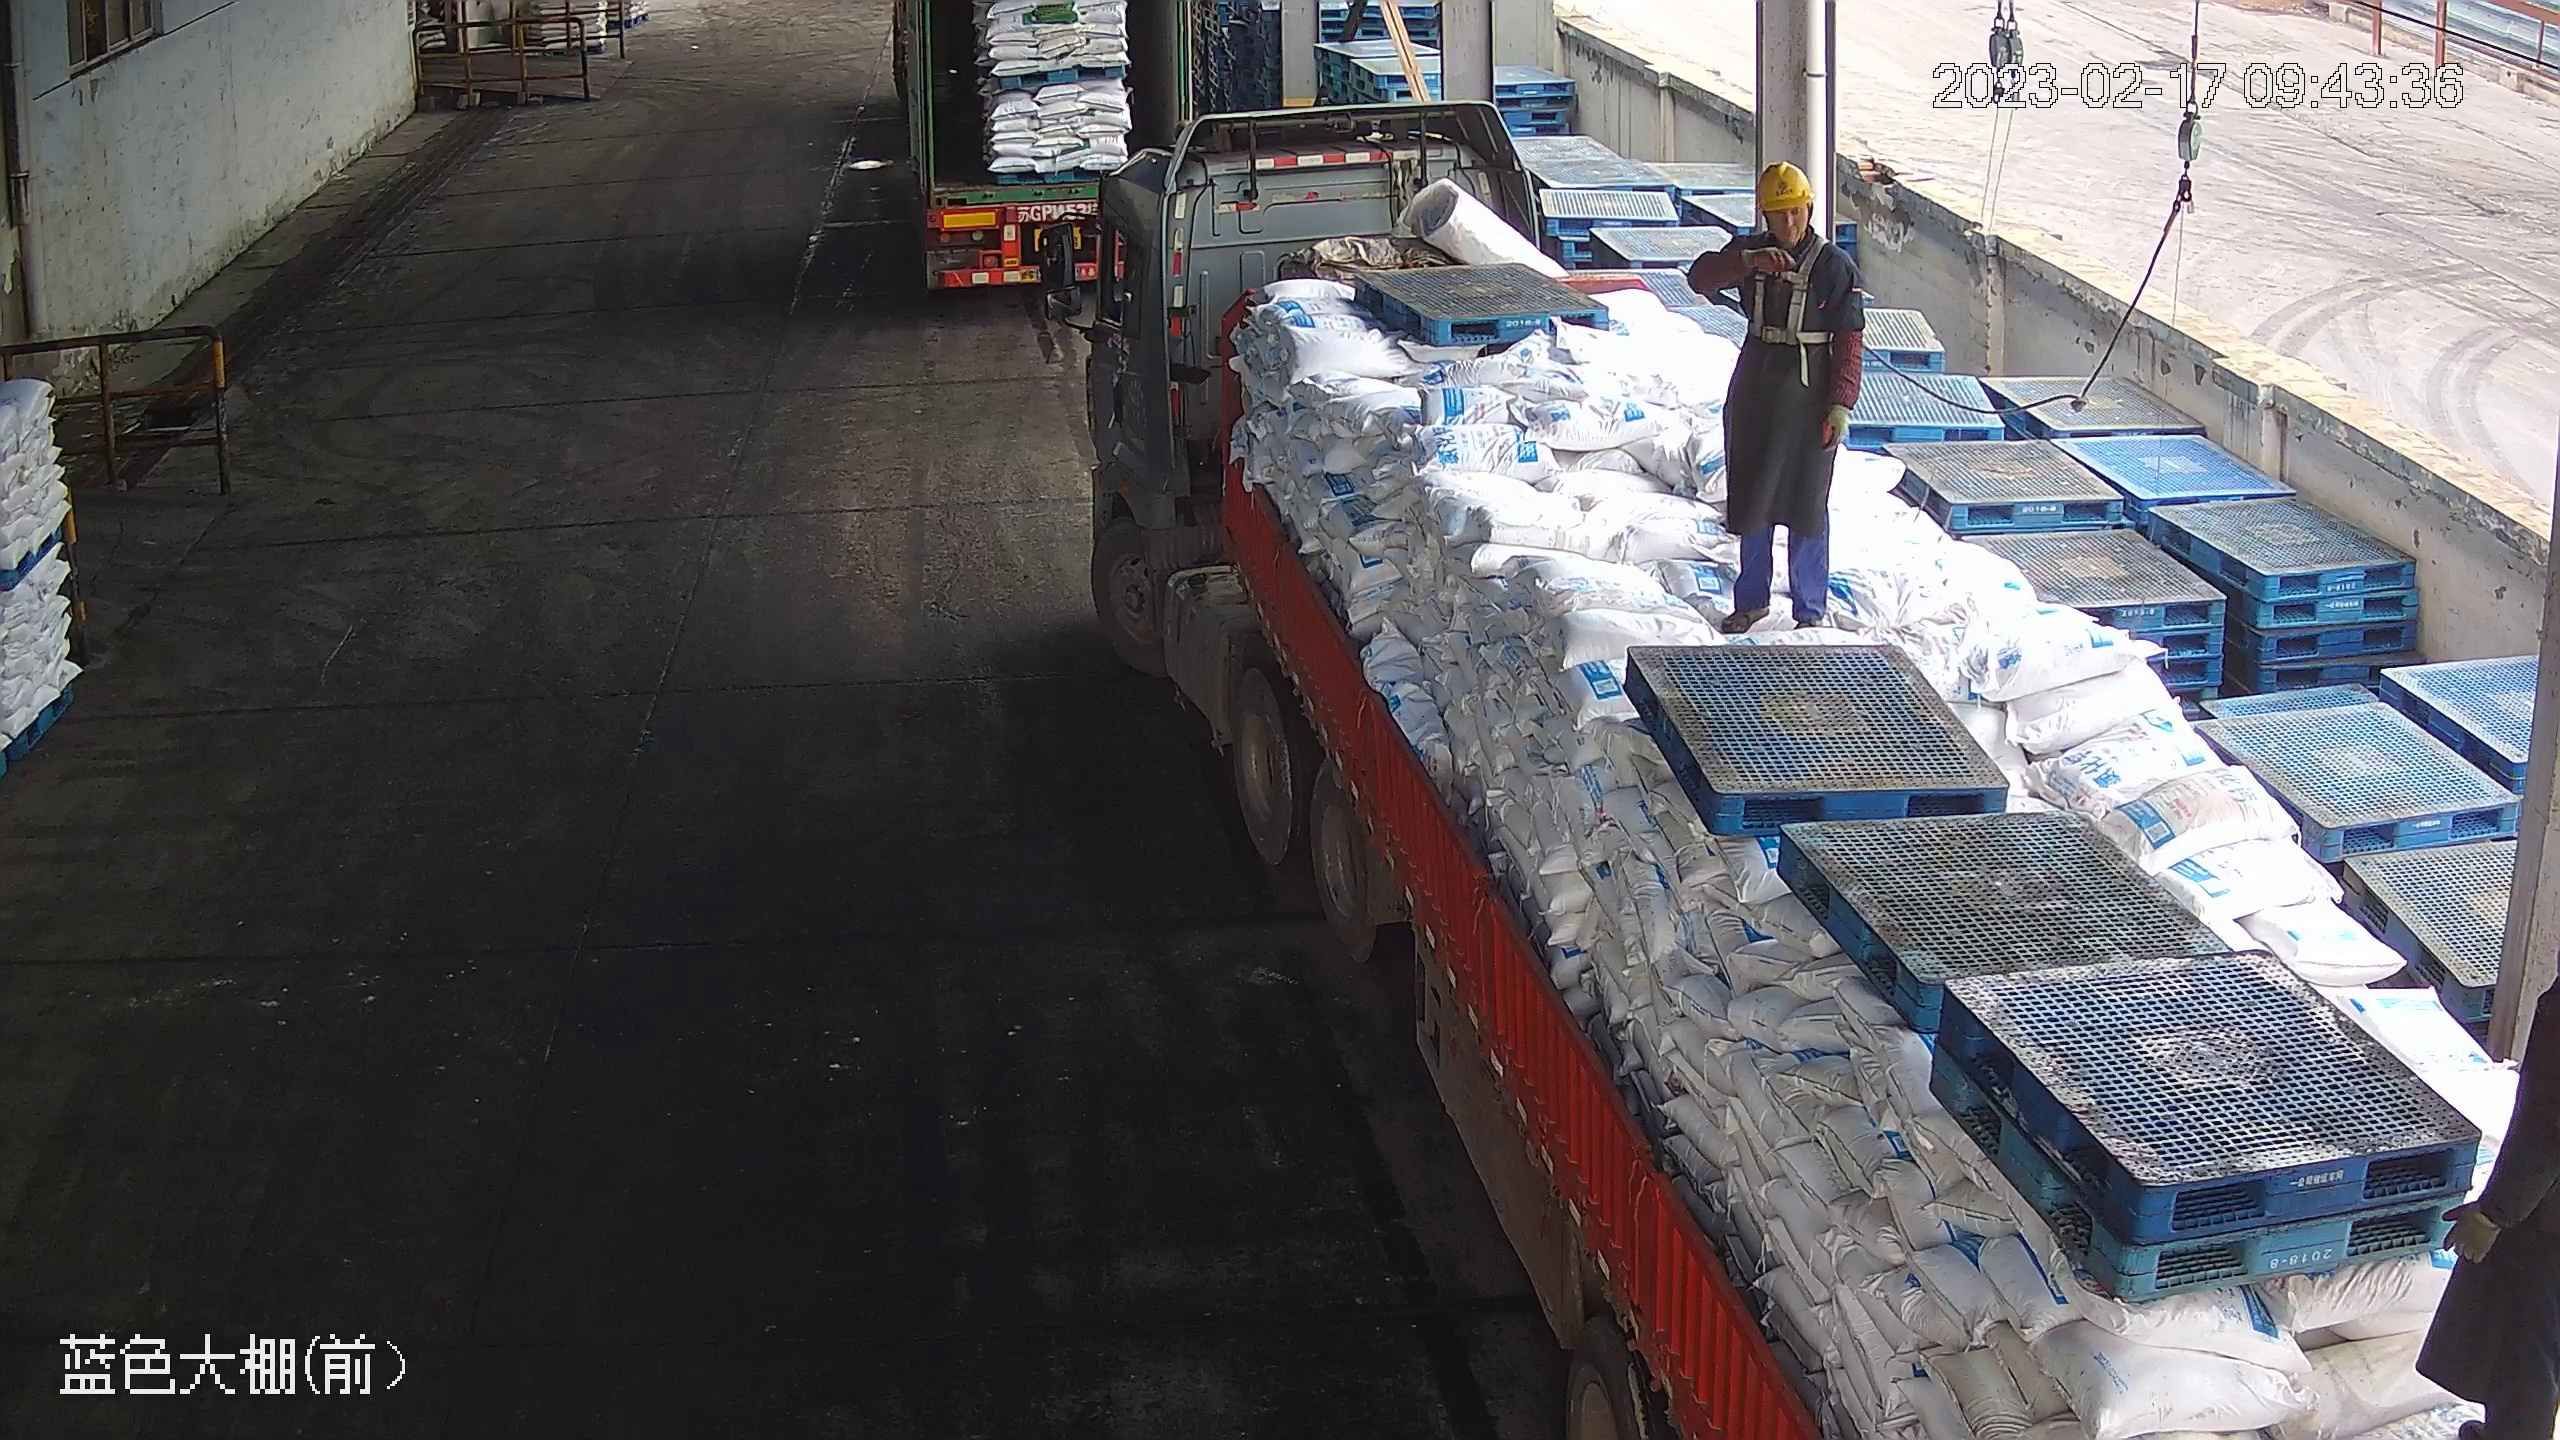belt: (1747, 233, 1828, 347)
head: (1731, 163, 1855, 288)
helmet: (1755, 161, 1817, 211)
people: (1682, 159, 1865, 635)
truck: (1040, 98, 2557, 1440), (893, 1, 1193, 296)
